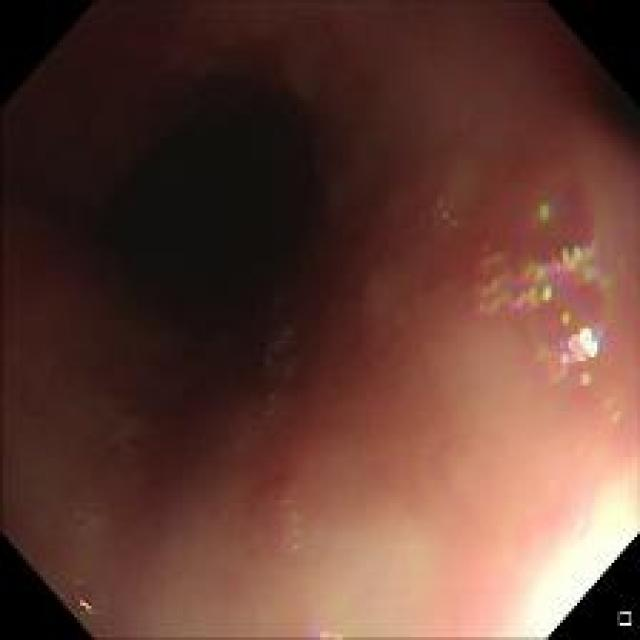bubbles: (464, 179, 618, 389), (262, 326, 299, 375), (278, 490, 301, 556), (430, 196, 458, 229)
color misalignment: (455, 162, 625, 394), (71, 582, 104, 630), (312, 625, 352, 639)
contrast: (11, 10, 405, 465)
saturation: (482, 478, 635, 632)
